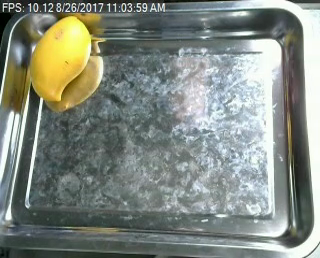Mango: (26, 12, 98, 105)
